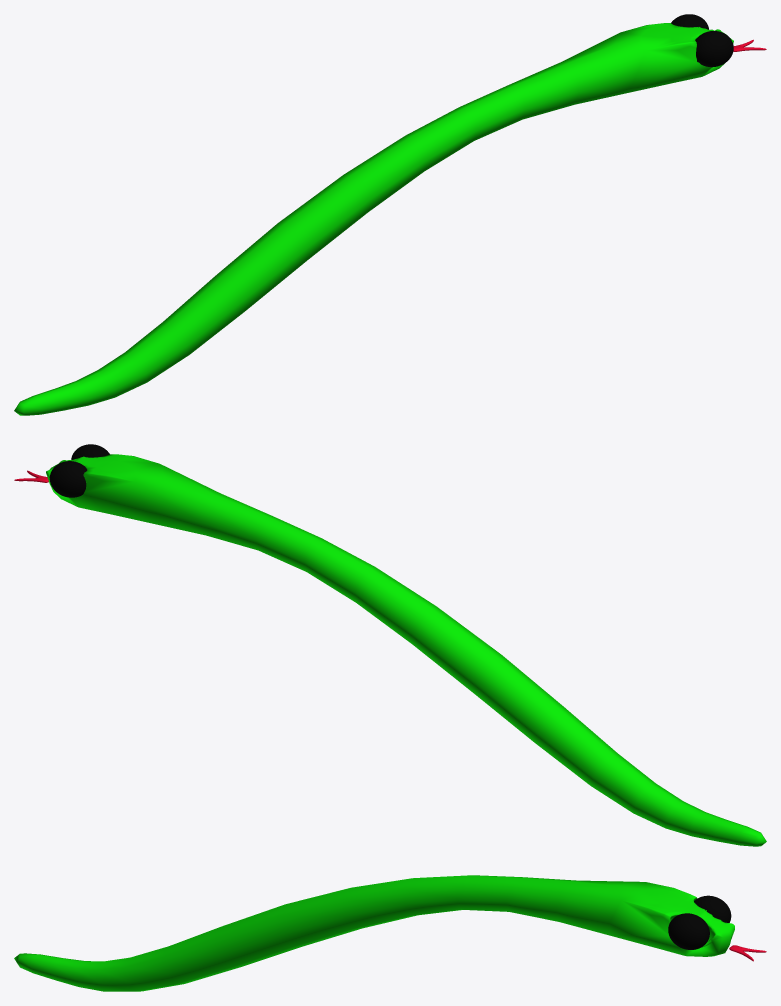
Rendered from Snake.fbx.
3 views of the same model, one above another, from view 1: azimuth 30°, elevation 25°; view 2: azimuth 150°, elevation 25°; view 3: azimuth 330°, elevation 25° (orthographic).
Parts seen in each view (by area): view 1: Orm; view 2: Orm; view 3: Orm.
Boxes of the visible parts, left/top/right/bottom form: Orm: left=14, top=14, right=766, bottom=415; Orm: left=14, top=444, right=766, bottom=846; Orm: left=14, top=875, right=766, bottom=991.
Size of the model in its own units: 101 by 29.84 by 9.58.
